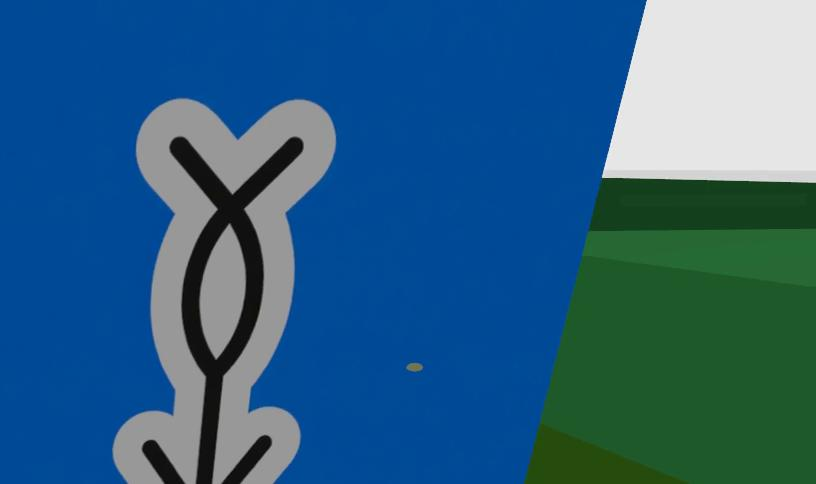KFS_REAL: (0, 0, 644, 484), (113, 99, 334, 484)
